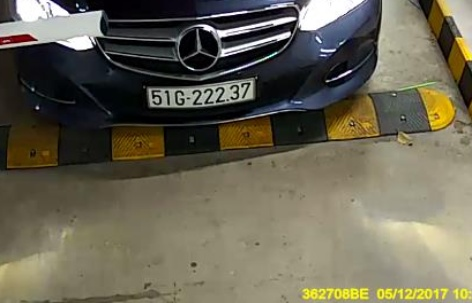plate: (145, 75, 261, 110)
